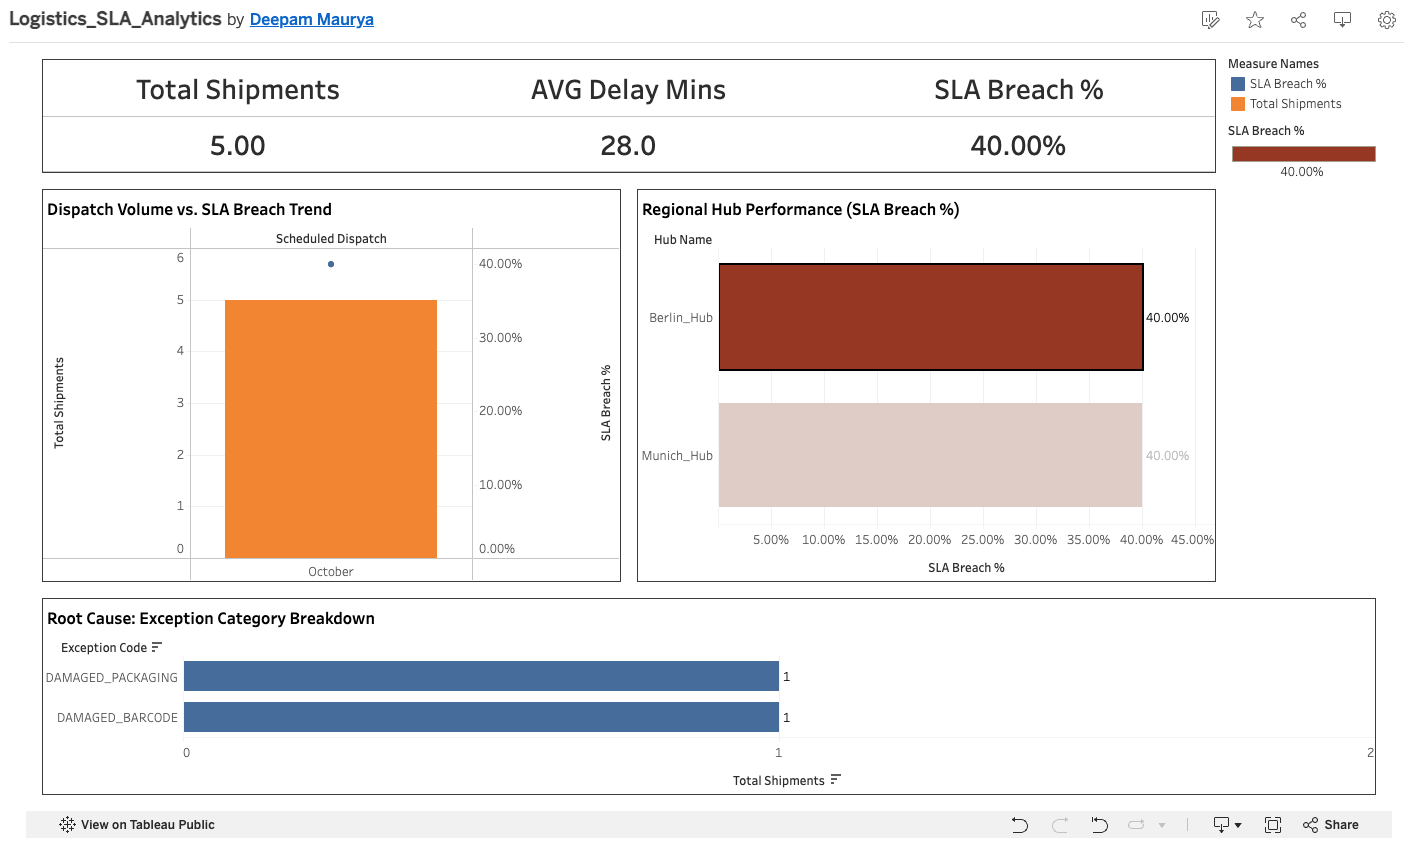

The dashboard page shown, as its layout file describes it:
{"tool":"tableau","page":{"name":"Logistics_Executive_Dashboard","canvas":[1366,768],"ordinal":0},"visuals":[{"type":"worksheet","title":"KPI_Banner","mark":"Automatic","box":[8,8,1190,130]},{"type":"legend","title":"Monthly_Volume_vs_Breach","param":"[federated.1xnzmui1ksm6fm13pflnf1lea1jp].[:Measure Names]","box":[1198,8,160,66]},{"type":"legend","title":"Hub_Performance","param":"[federated.1xnzmui1ksm6fm13pflnf1lea1jp].[usr:Calculation_4570321082302466:qk]","box":[1198,74,160,65]},{"type":"worksheet","title":"Monthly_Volume_vs_Breach","mark":"Bar","rows":["Calculation_4570321078087680","Calculation_4570321082302466"],"cols":["scheduled_dispatch"],"box":[8,138,595,409]},{"type":"worksheet","title":"Hub_Performance","mark":"Automatic","rows":["hub_name"],"cols":["Calculation_4570321082302466"],"box":[603,138,595,409]},{"type":"worksheet","title":"Exception Breakdown","mark":"Automatic","rows":["exception_code"],"cols":["Calculation_4570321078087680"],"box":[8,547,1350,213]}]}

Visuals, with their boxes in screenshot pixels (x1, y1, x2, y2):
"KPI_Banner" worksheet: 41 55 1204 182
"Monthly_Volume_vs_Breach" legend: 1204 55 1361 120
"Hub_Performance" legend: 1204 120 1361 183
"Monthly_Volume_vs_Breach" worksheet (Bar marks): 41 182 622 582
"Hub_Performance" worksheet: 622 182 1204 582
"Exception Breakdown" worksheet: 41 582 1361 791
